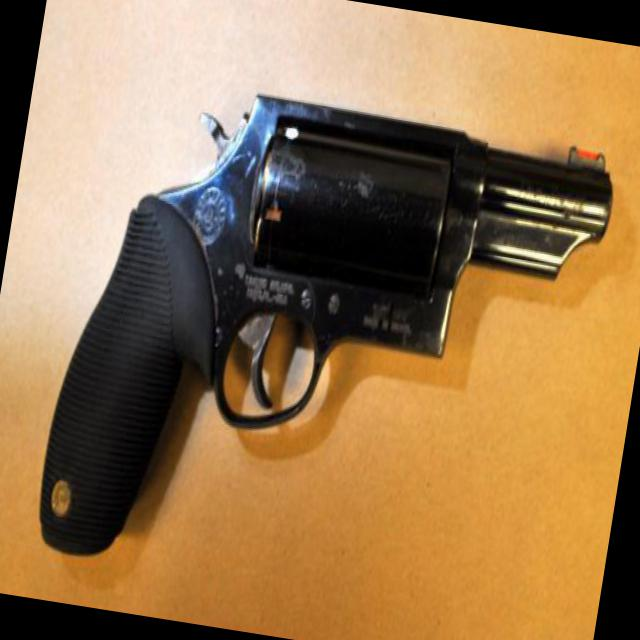handgun: (35, 49, 624, 628)
